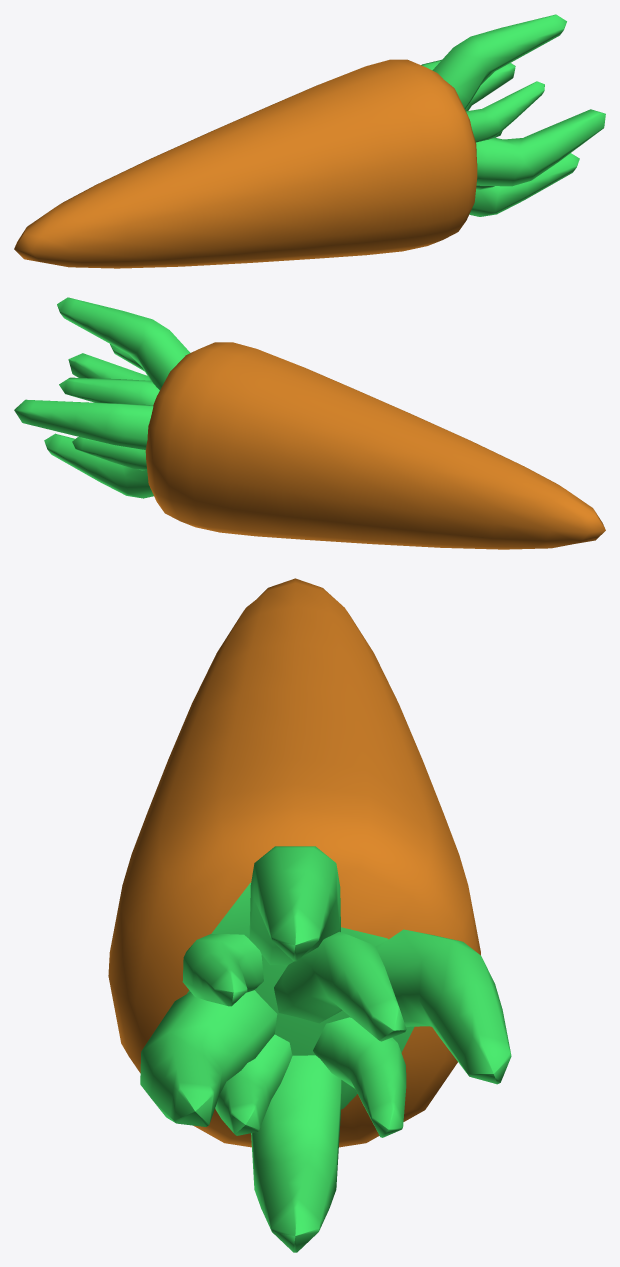
Rendered from carrot.fbx.
3 views of the same model, one above another, from view 1: azimuth 30°, elevation 25°; view 2: azimuth 150°, elevation 25°; view 3: azimuth 270°, elevation 25° (orthographic). The views are drawn at different scales.
Parts seen in each view (by area): view 1: Cube; view 2: Cube; view 3: Cube.
Boxes of the visible parts, x1,y1,x2,y2 form: Cube: [14, 14, 605, 268]; Cube: [14, 297, 605, 549]; Cube: [108, 578, 511, 1252].
Size of the model in its own units: 573 by 181 by 178.
